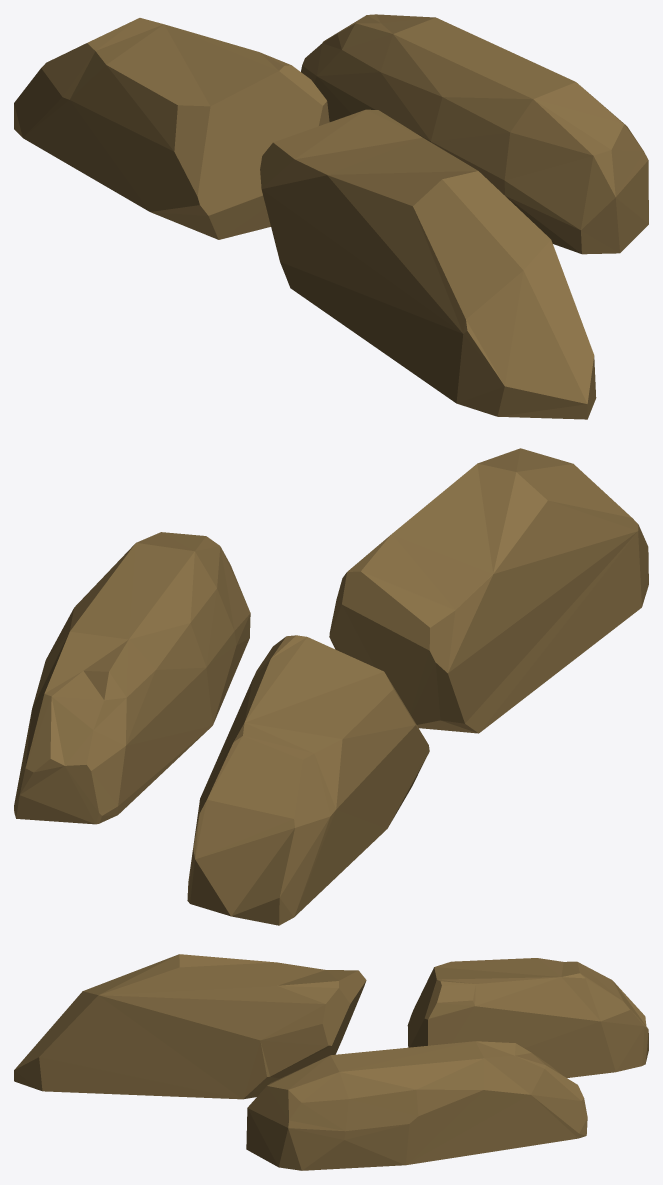
The model's file is rockGroup03.fbx.
The picture shows the model from 3 angles, top to bottom: view 1: azimuth 30°, elevation 25°; view 2: azimuth 150°, elevation 25°; view 3: azimuth 270°, elevation 25°; orthographic projection. The views are drawn at different scales.
Visible parts, largest first — view 1: rockGroup03; view 2: rockGroup03; view 3: rockGroup03.
Boxes of the visible parts, x1,y1,x2,y2 form: rockGroup03: (14,14,648,419); rockGroup03: (14,448,648,925); rockGroup03: (14,954,648,1170).
Bounding box in the file's own units: 166 × 66.21 × 326.
